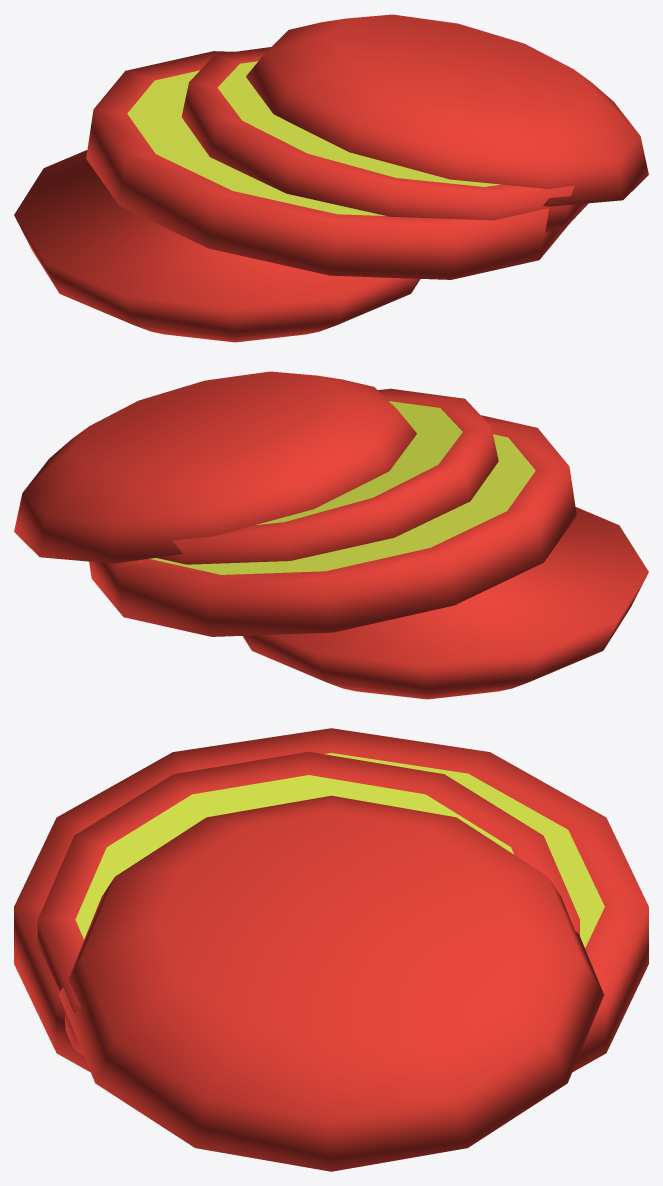
File: TomatoChopped.glb
The picture shows the model from 3 angles, top to bottom: view 1: azimuth 30°, elevation 25°; view 2: azimuth 150°, elevation 25°; view 3: azimuth 270°, elevation 25°; orthographic projection. The views are drawn at different scales.
Visible parts, largest first — view 1: Cylinder; view 2: Cylinder; view 3: Cylinder.
Boxes of the visible parts, x1,y1,x2,y2 form: Cylinder: (14, 14, 648, 342); Cylinder: (14, 371, 648, 699); Cylinder: (14, 728, 648, 1171).
Size of the model in its own units: 0.5631 by 0.183 by 0.4147.
